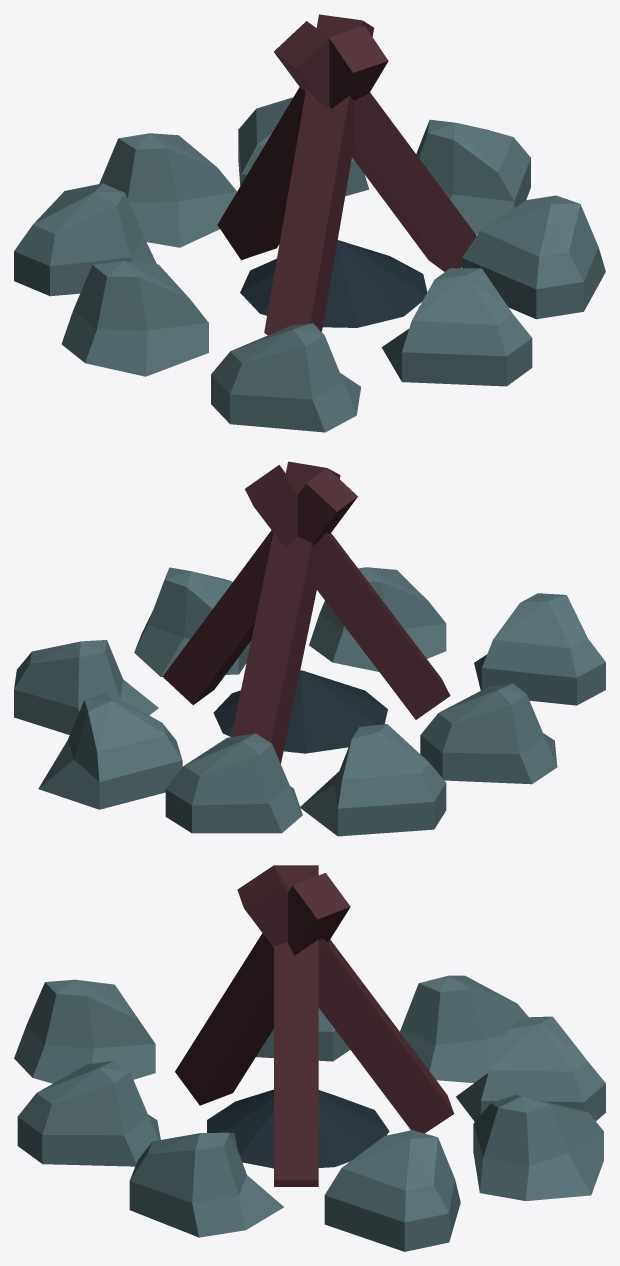
Rendered from camp_fire.glb.
The picture shows the model from 3 angles, top to bottom: view 1: azimuth 30°, elevation 25°; view 2: azimuth 150°, elevation 25°; view 3: azimuth 270°, elevation 25°; orthographic projection. The views are drawn at different scales.
Visible parts, largest first — view 1: костер; view 2: костер; view 3: костер.
Part boxes in pixels (<box>): костер: <box>14,14,605,432</box>; костер: <box>14,461,605,836</box>; костер: <box>14,865,605,1251</box>.
Bounding box in the file's own units: 1.9 × 0.9492 × 1.93.
Materials: 1 (1 with a texture image).
